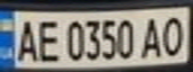0: (115, 16, 139, 61), (63, 16, 84, 62)
3: (81, 16, 103, 61)
5: (100, 16, 121, 61)
A: (12, 16, 42, 63), (139, 14, 166, 58)
E: (33, 16, 63, 63)
O: (157, 12, 190, 57)
